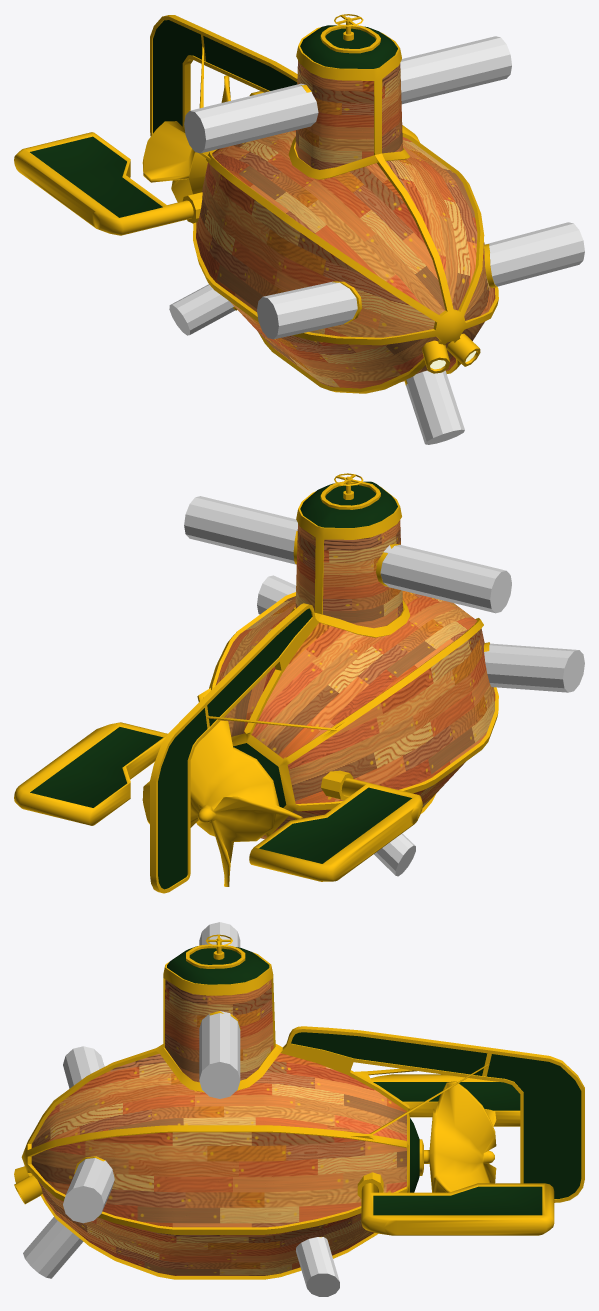
File: submarine-v2.glb
3 renders of one model, top to bottom at view 1: azimuth 30°, elevation 25°; view 2: azimuth 150°, elevation 25°; view 3: azimuth 270°, elevation 25°, orthographic. The views are drawn at different scales.
Parts seen in each view (by area): view 1: SUBMARINE: body, window cutouts, SUBMARINE: fins, SUBMARINE: prop; view 2: SUBMARINE: body, SUBMARINE: fins, window cutouts, SUBMARINE: prop; view 3: SUBMARINE: body, SUBMARINE: fins, window cutouts, SUBMARINE: prop.
Boxes of the visible parts, x1,y1,x2,y2 form: SUBMARINE: body: (150, 14, 498, 393); window cutouts: (169, 36, 584, 444); SUBMARINE: fins: (14, 91, 419, 235); SUBMARINE: prop: (142, 75, 230, 223); SUBMARINE: body: (150, 473, 498, 893); SUBMARINE: fins: (14, 722, 422, 881); window cutouts: (184, 496, 584, 876); SUBMARINE: prop: (142, 720, 302, 886); SUBMARINE: body: (14, 934, 584, 1279); SUBMARINE: fins: (361, 1074, 554, 1235); window cutouts: (23, 922, 339, 1296); SUBMARINE: prop: (424, 1081, 496, 1192).
Size of the model in its own units: 2.79 by 3.02 by 4.62.
Materials: 2 (1 with a texture image).
